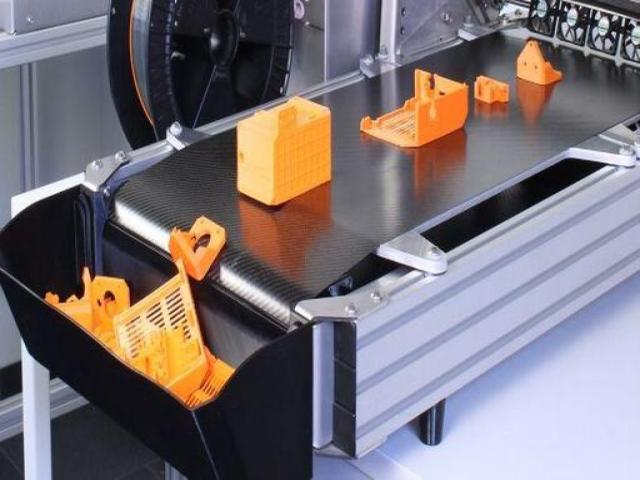conveyor: (75, 15, 640, 325)
